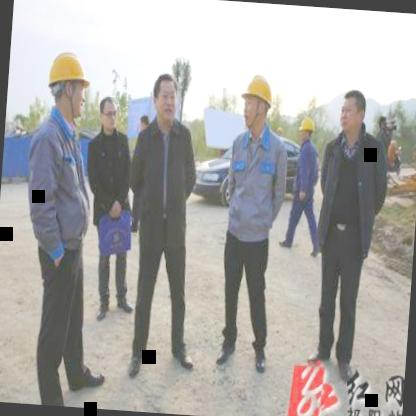head: (150, 64, 184, 132), (335, 86, 370, 138), (95, 88, 124, 145)
helmet: (40, 41, 96, 124), (235, 64, 279, 140), (296, 111, 316, 144)
